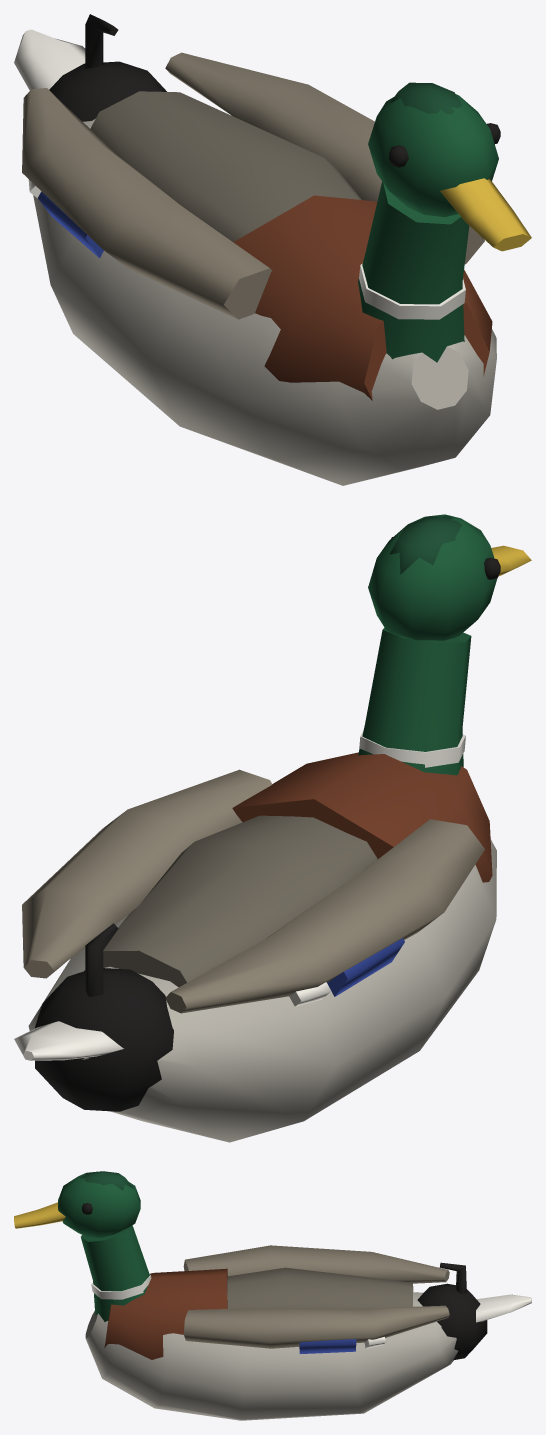
Rendered from animal_duck_drake.glb.
3 renders of one model, top to bottom at view 1: azimuth 30°, elevation 25°; view 2: azimuth 150°, elevation 25°; view 3: azimuth 270°, elevation 25°, orthographic. The views are drawn at different scales.
Parts seen in each view (by area): view 1: body, head, wing_R, wing_L; view 2: body, head, wing_R, wing_L; view 3: body, wing_L, head, wing_R.
Part boxes in pixels (x1,y1,x2,y2): body: [14, 14, 496, 485]; head: [358, 82, 531, 362]; wing_R: [22, 88, 272, 319]; wing_L: [165, 52, 484, 264]; body: [14, 752, 496, 1142]; head: [358, 514, 531, 775]; wing_R: [165, 819, 484, 1013]; wing_L: [22, 769, 272, 978]; body: [85, 1262, 531, 1420]; wing_L: [183, 1305, 449, 1353]; head: [14, 1171, 151, 1321]; wing_R: [183, 1245, 449, 1283].
Bounding box in the file's own units: 0.2999 × 0.3705 × 0.7369.
